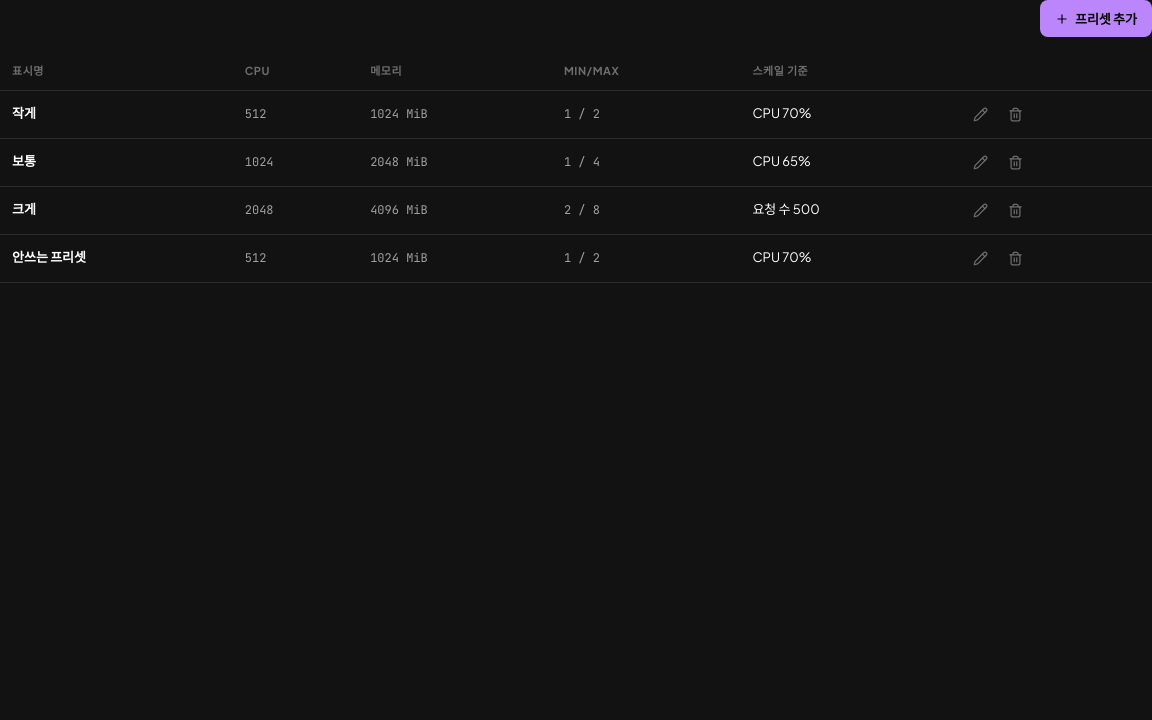
Test case: M3 — 프리셋 삭제 › 사용 중이 아니면 삭제되고 목록에서 사라진다
The image size is (1152, 720).
Check: the text "안쓰는 프리셋" is shown, box [0,234,233,282]
Click the button named "삭제" in the row of "안쓰는 프리셋" at (1016, 258), box [1004,246,1027,270]
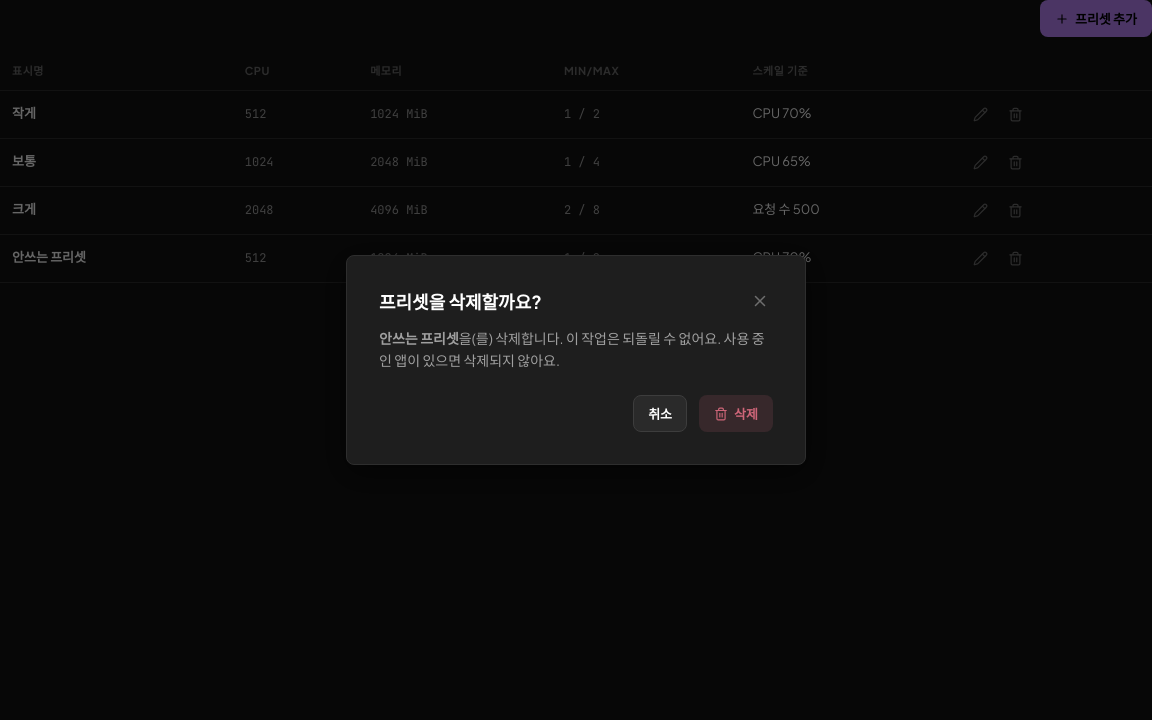
Click the button "삭제" at (736, 414), box [699,395,773,432]
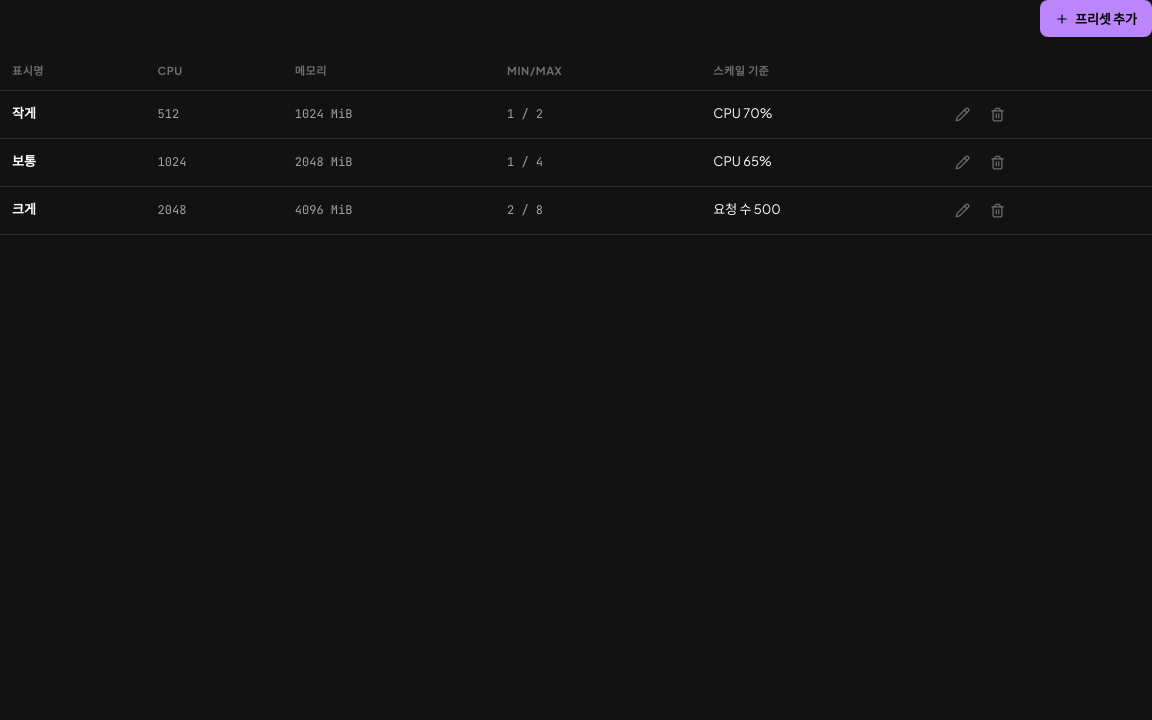
Check: the text "안쓰는 프리셋" is gone
Check: the dialog is gone
